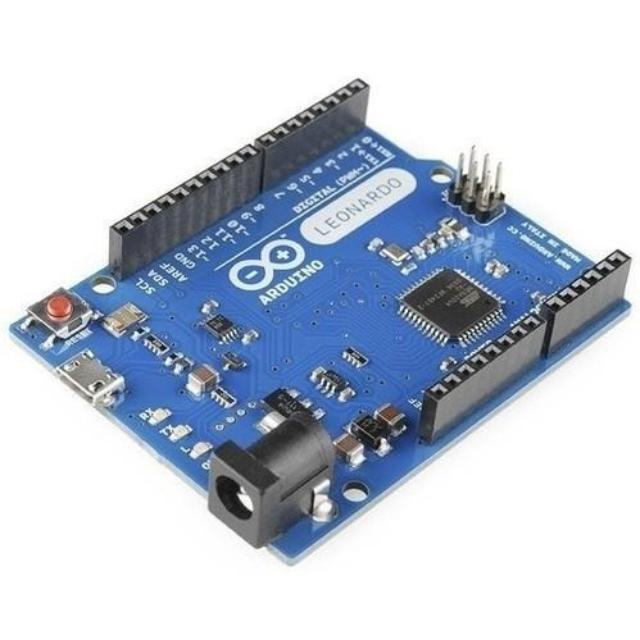Arduino-leonardo: (12, 80, 629, 558)
